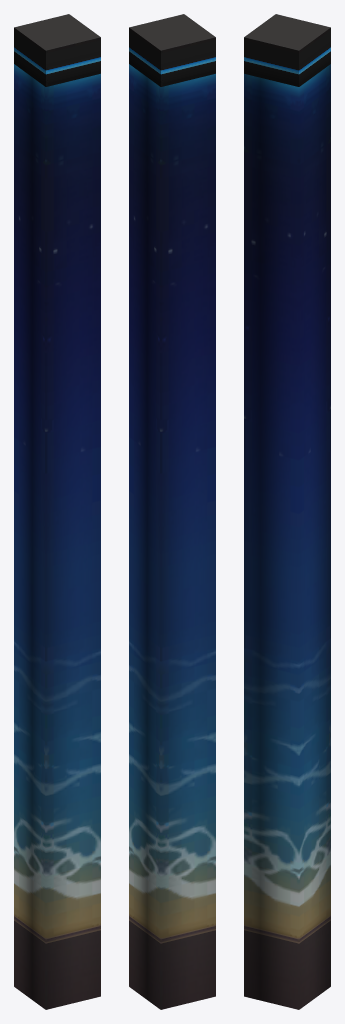
File: my_ariussummer_01_wall_side.glb
3 renders of one model, left to right at view 1: azimuth 30°, elevation 25°; view 2: azimuth 210°, elevation 25°; view 3: azimuth 330°, elevation 25°, orthographic.
Parts seen in each view (by area): view 1: my_ariussummer_01_wall_side; view 2: my_ariussummer_01_wall_side; view 3: my_ariussummer_01_wall_side.
Part boxes in pixels (x1,y1,x2,y2): my_ariussummer_01_wall_side: (14,14,100,1009); my_ariussummer_01_wall_side: (129,14,215,1009); my_ariussummer_01_wall_side: (244,14,330,1009).
Bounding box in the file's own units: 0.003 × 0.0499 × 0.003.
1 material, 1 textured.
